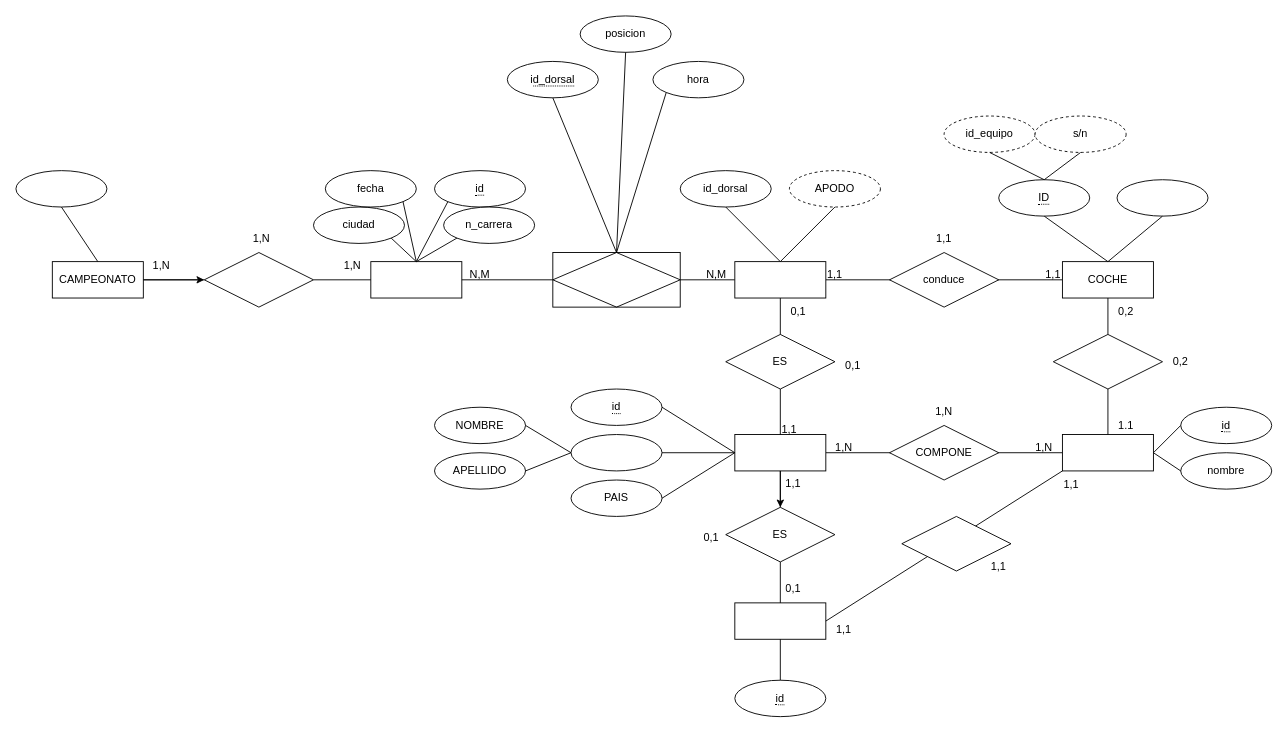
Some shapes in this 1288 by 733 pixel diagram are drawn without their labels. Each missing label, with the box of its shape:
annio: (15, 170, 107, 207)
CARRERAS: (370, 261, 462, 298)
corre: (552, 252, 680, 307)
dirigido: (901, 516, 1011, 571)
EQUIPO: (1062, 434, 1153, 471)
forma: (203, 252, 313, 307)
FULLNAME: (570, 434, 662, 471)
JEFE DE EQUIPO: (734, 602, 826, 639)
motor: (1116, 179, 1208, 216)
PERSONA: (734, 434, 826, 471)
PILOTO: (734, 261, 826, 298)
TIENE: (1052, 334, 1163, 389)
